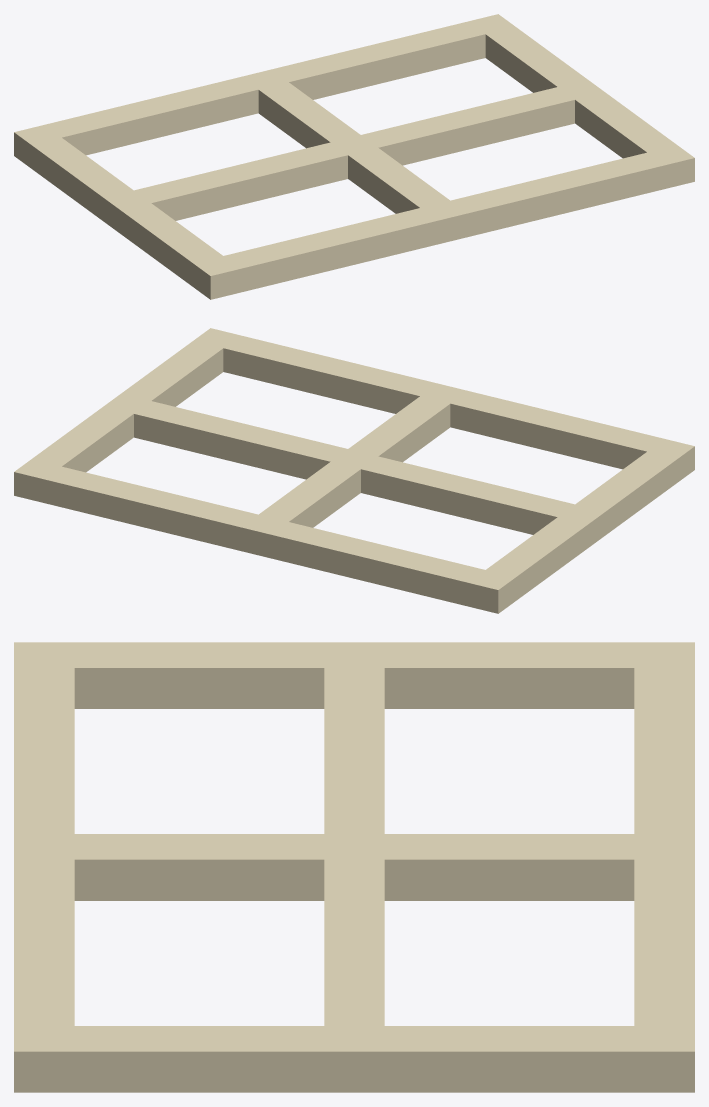
File: prop-mesh-sample-blank-nm1.fbx
3 renders of one model, top to bottom at view 1: azimuth 30°, elevation 25°; view 2: azimuth 150°, elevation 25°; view 3: azimuth 270°, elevation 25°, orthographic. The views are drawn at different scales.
Visible parts, largest first — view 1: prop-mesh-sample-blank-nm1; view 2: prop-mesh-sample-blank-nm1; view 3: prop-mesh-sample-blank-nm1.
Part boxes in pixels (x1=…): prop-mesh-sample-blank-nm1: x1=14, y1=14, x2=694, y2=299; prop-mesh-sample-blank-nm1: x1=14, y1=328, x2=694, y2=613; prop-mesh-sample-blank-nm1: x1=14, y1=642, x2=694, y2=1092.
Bounding box in the file's own units: 12.8 × 0.6 × 9.
